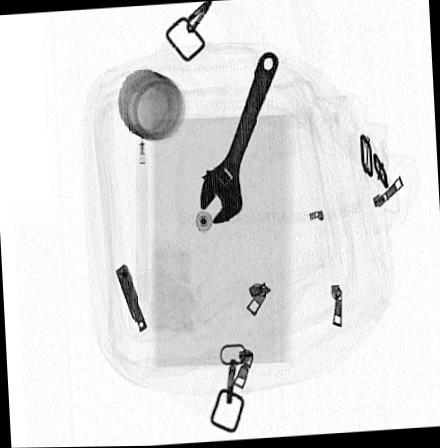Wrench: (197, 52, 278, 228)
